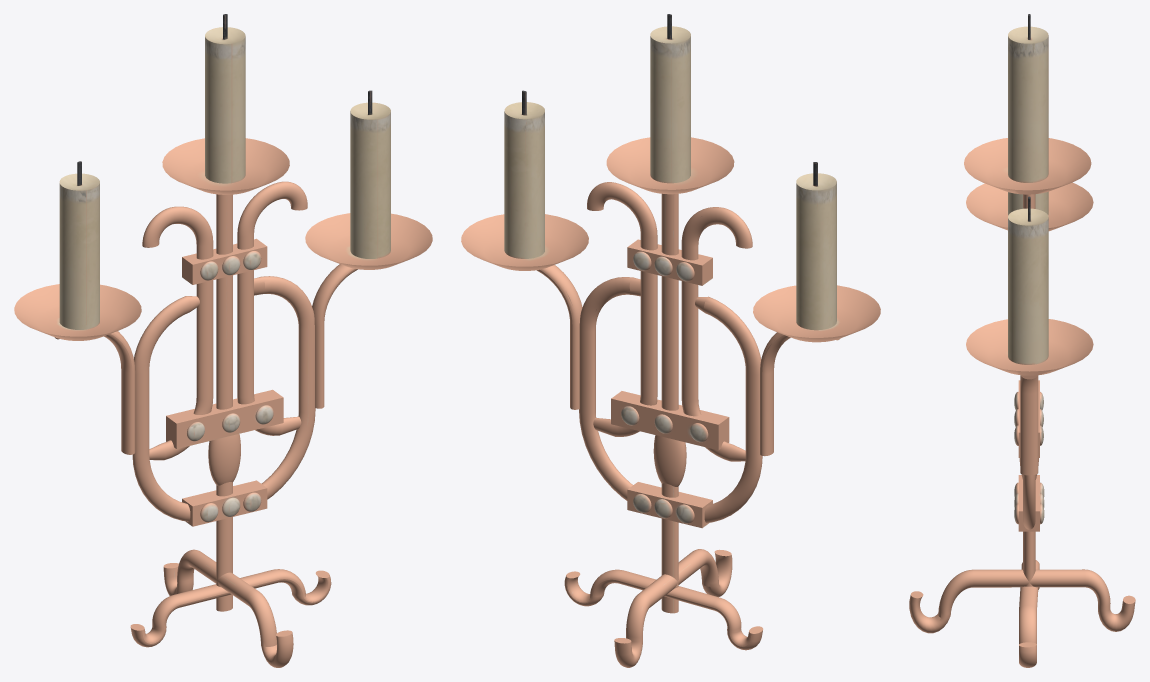
File: wj_prop_candelabra.glb
3 views of the same model, side by side, from view 1: azimuth 30°, elevation 25°; view 2: azimuth 150°, elevation 25°; view 3: azimuth 270°, elevation 25° (orthographic).
Visible parts, largest first — view 1: candelabra.; view 2: candelabra.; view 3: candelabra..
Boxes of the visible parts, x1,y1,x2,y2 form: candelabra.: (14,14,432,667); candelabra.: (461,14,880,667); candelabra.: (909,14,1135,667).
Bounding box in the file's own units: 0.8166 × 1.2 × 0.3984.
Materials: 1 (1 with a texture image).
